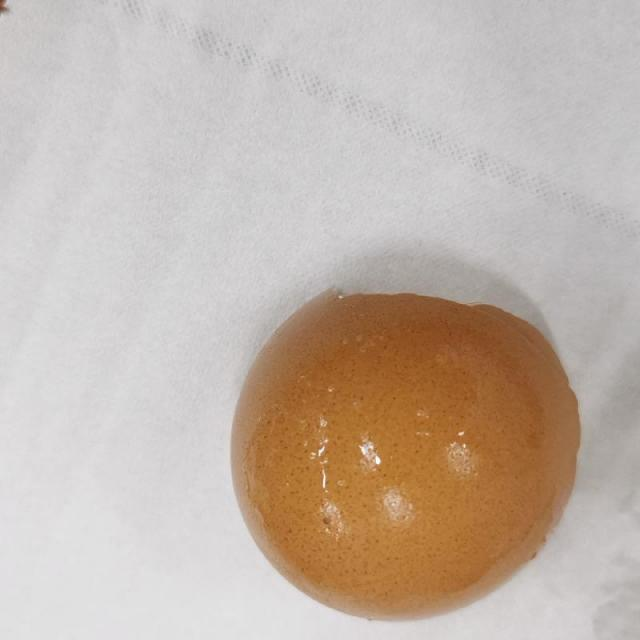egg shell: (219, 286, 585, 623)
